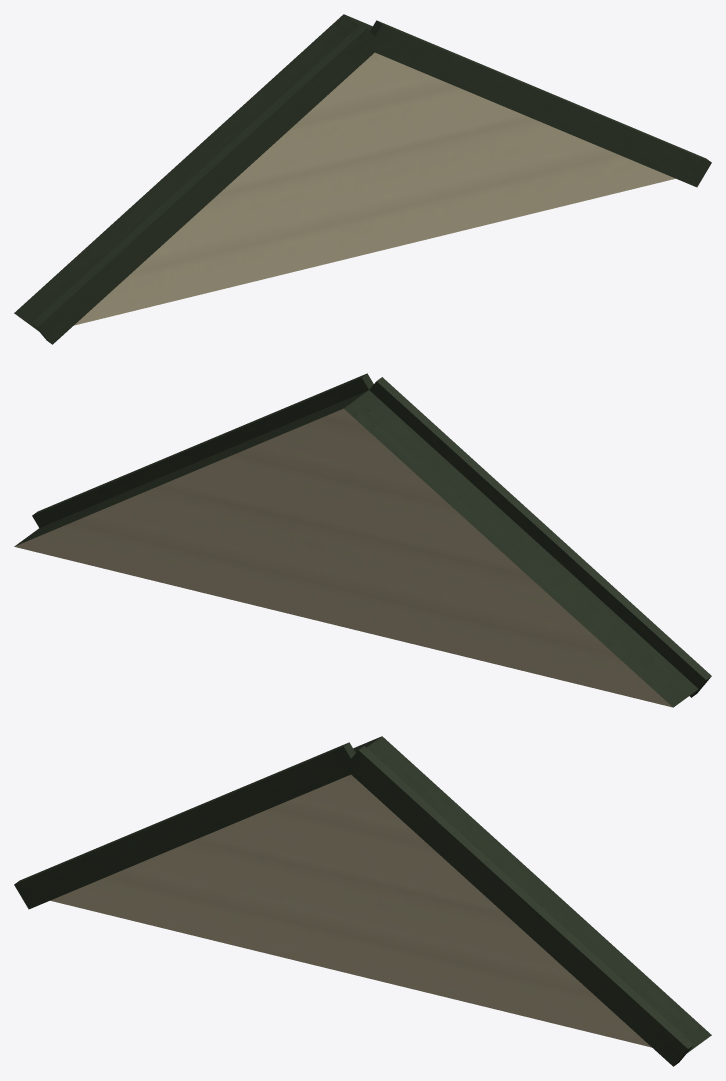
File: house_01_gable.glb
3 renders of one model, top to bottom at view 1: azimuth 30°, elevation 25°; view 2: azimuth 150°, elevation 25°; view 3: azimuth 330°, elevation 25°, orthographic.
Visible parts, largest first — view 1: outdoor_house_01_gable; view 2: outdoor_house_01_gable; view 3: outdoor_house_01_gable.
Part boxes in pixels (bbox=[...]): outdoor_house_01_gable: bbox=[14, 14, 711, 344]; outdoor_house_01_gable: bbox=[14, 373, 711, 707]; outdoor_house_01_gable: bbox=[14, 736, 711, 1066].
Bounding box in the file's own units: 3 × 1.02 × 0.24.
1 material, 1 textured.
